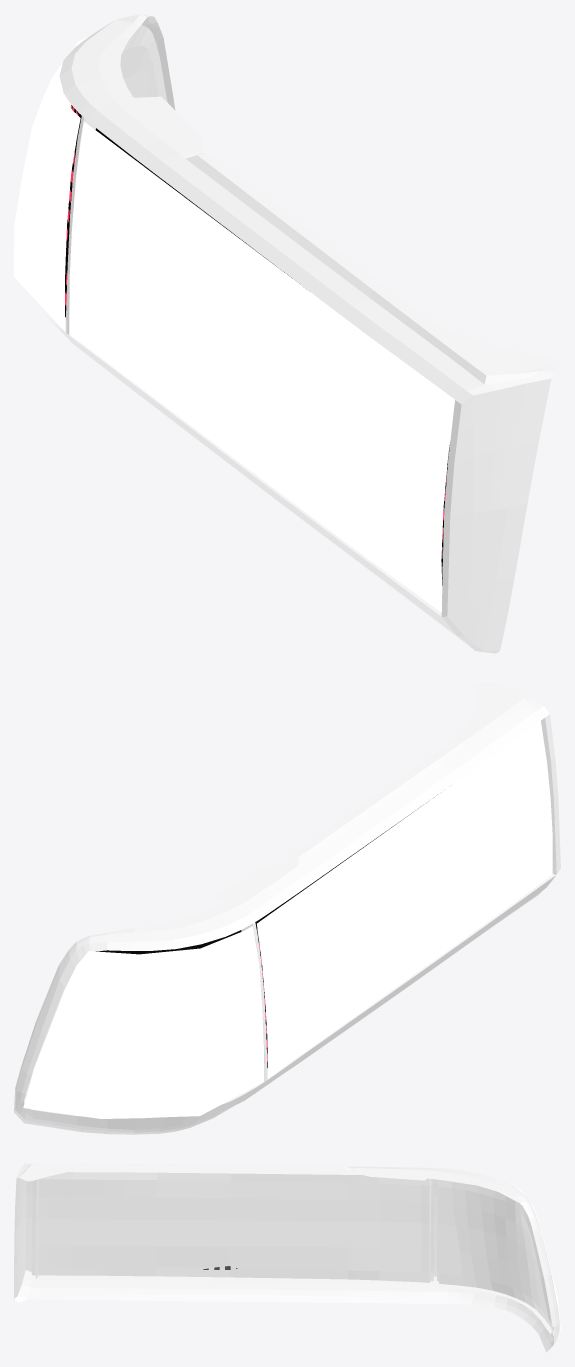
File: DigiLyt.glb
The picture shows the model from 3 angles, top to bottom: view 1: azimuth 30°, elevation 25°; view 2: azimuth 150°, elevation 25°; view 3: azimuth 270°, elevation 25°; orthographic projection. The views are drawn at different scales.
Visible parts, largest first — view 1: glass, Cube.001; view 2: glass, Cube.001; view 3: Cube.001.
Part boxes in pixels (box(x1,y1,x2,y2)): glass: box(14, 35, 454, 612); Cube.001: box(32, 14, 560, 653); glass: box(23, 721, 552, 1118); Cube.001: box(14, 682, 560, 1134); Cube.001: box(14, 1163, 559, 1352).
Bounding box in the file's own units: 0.1351 × 0.142 × 0.5018.
Materials: 5 (1 with a texture image).
